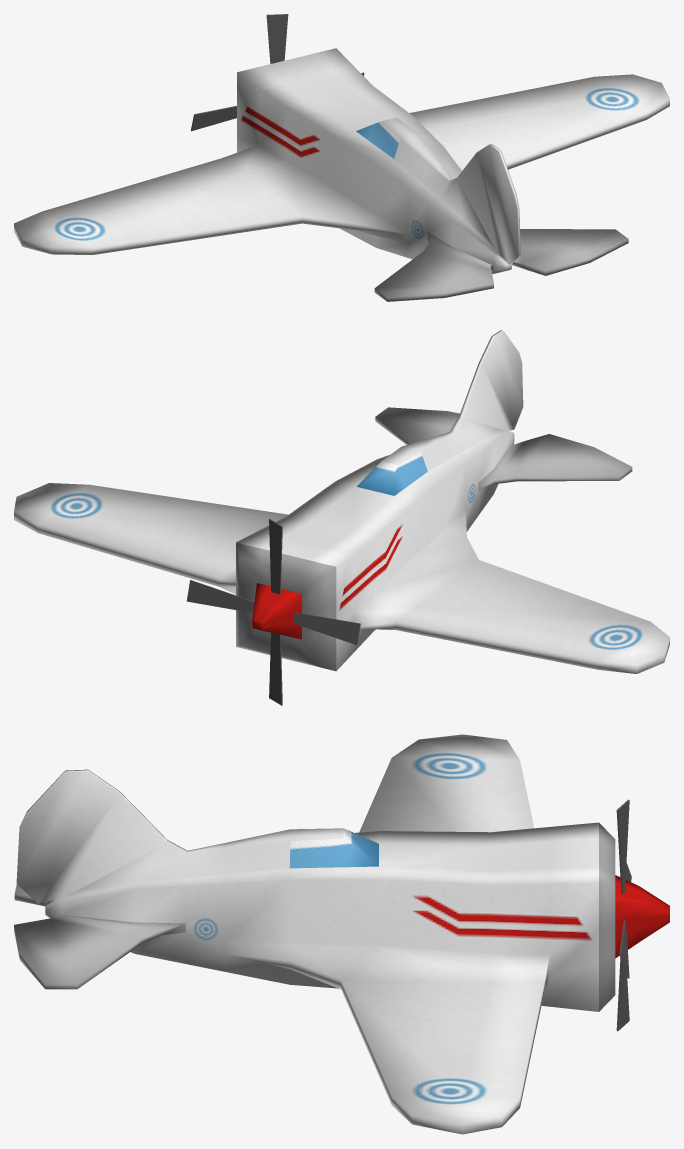
3 views of the same model, one above another, from view 1: azimuth 30°, elevation 25°; view 2: azimuth 150°, elevation 25°; view 3: azimuth 270°, elevation 25° (orthographic). The views are drawn at different scales.
Visible parts, largest first — view 1: Plane, Propeller; view 2: Plane, Propeller; view 3: Plane, Propeller.
Boxes of the visible parts, x1,y1,x2,y2 form: Plane: (14,48,669,301); Propeller: (191,14,364,130); Plane: (14,330,669,673); Propeller: (186,519,359,705); Plane: (14,734,615,1134); Propeller: (615,799,669,1031).
Bounding box in the file's own units: 2.77 × 0.8446 × 1.97.
1 material, 1 textured.
